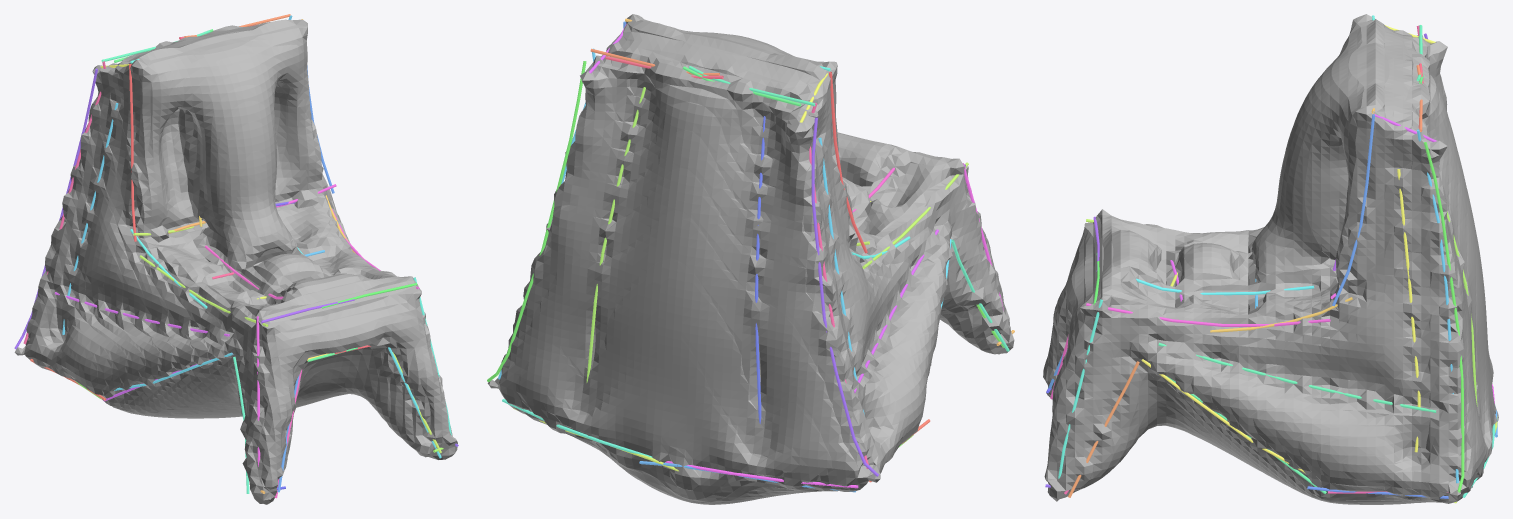
Rendered from author1_chair_ff.gltf.
The picture shows the model from 3 angles, left to right: view 1: azimuth 30°, elevation 25°; view 2: azimuth 150°, elevation 25°; view 3: azimuth 270°, elevation 25°; orthographic projection. The views are drawn at different scales.
Size of the model in its own units: 0.5782 by 0.6137 by 0.606.
